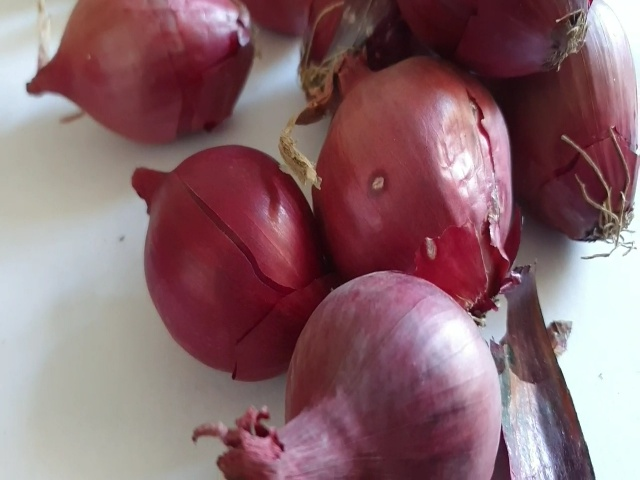red_onion: (185, 274, 525, 476), (306, 56, 514, 318), (115, 149, 315, 377), (4, 1, 257, 145), (493, 64, 637, 260)
